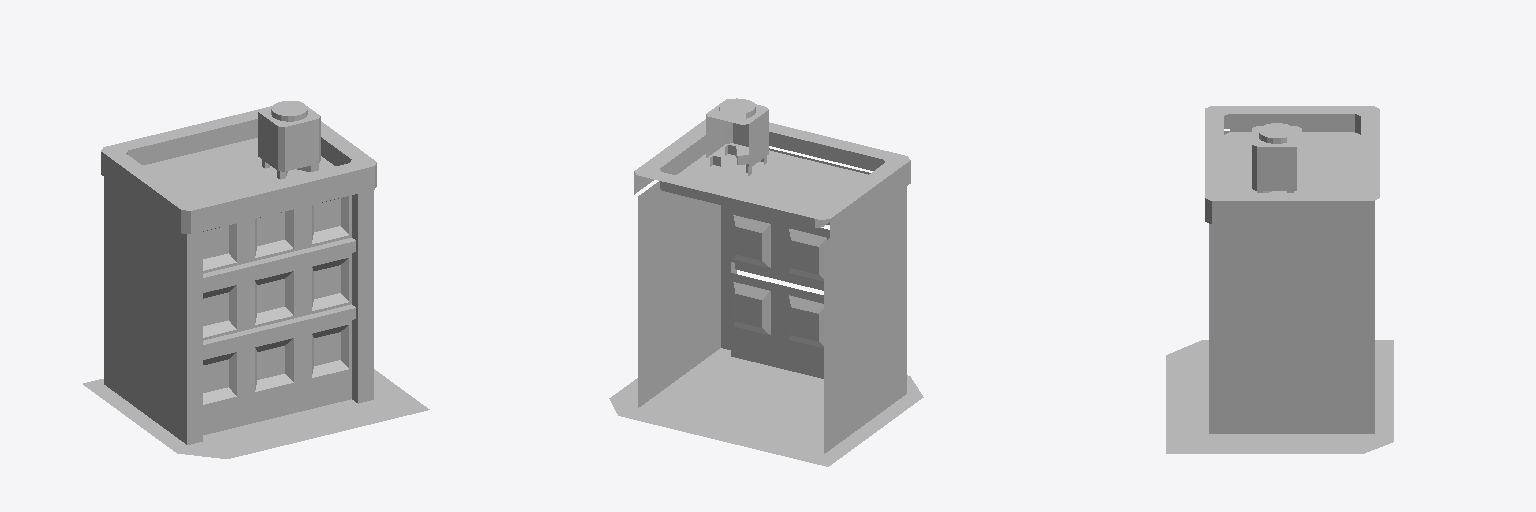
The model's file is Saffron City Building.obj.
The picture shows the model from 3 angles: view 1: azimuth 30°, elevation 25°; view 2: azimuth 150°, elevation 25°; view 3: azimuth 270°, elevation 25°; orthographic projection.
Visible parts, largest first — view 1: polygon3, polygon2, polygon0, polygon1; view 2: polygon3, polygon2, polygon0, polygon1; view 3: polygon3, polygon2, polygon0.
Part boxes in pixels (bbox=[...]): polygon3: bbox=[104, 177, 373, 444]; polygon2: bbox=[101, 101, 376, 233]; polygon0: bbox=[83, 161, 429, 458]; polygon1: bbox=[203, 198, 340, 392]; polygon3: bbox=[638, 148, 906, 453]; polygon2: bbox=[634, 98, 910, 241]; polygon0: bbox=[609, 148, 923, 466]; polygon1: bbox=[736, 227, 818, 341]; polygon3: bbox=[1209, 131, 1374, 433]; polygon2: bbox=[1205, 106, 1379, 224]; polygon0: bbox=[1166, 178, 1393, 453].
Size of the model in its own units: 88 by 101 by 74.